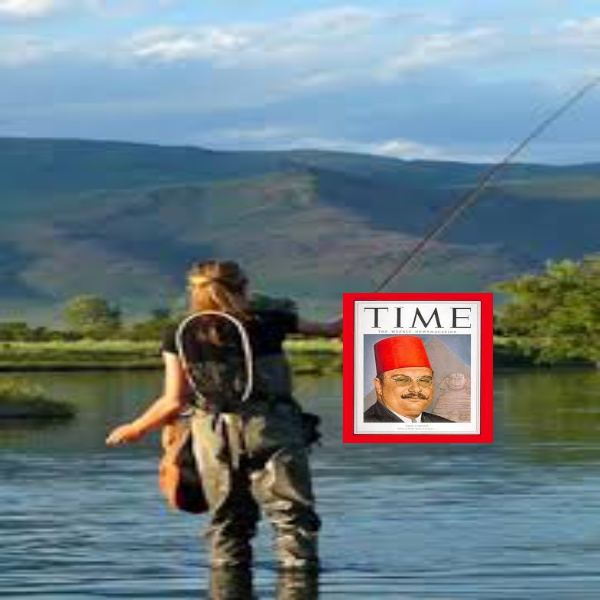time_cover: (338, 279, 496, 448)
